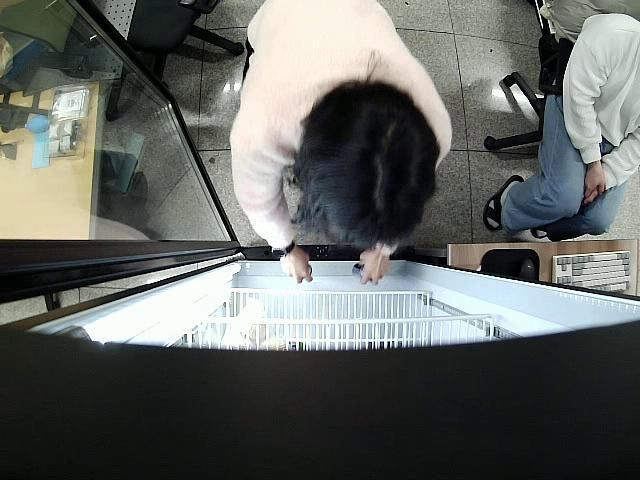16_hot6: (352, 264, 366, 278)
